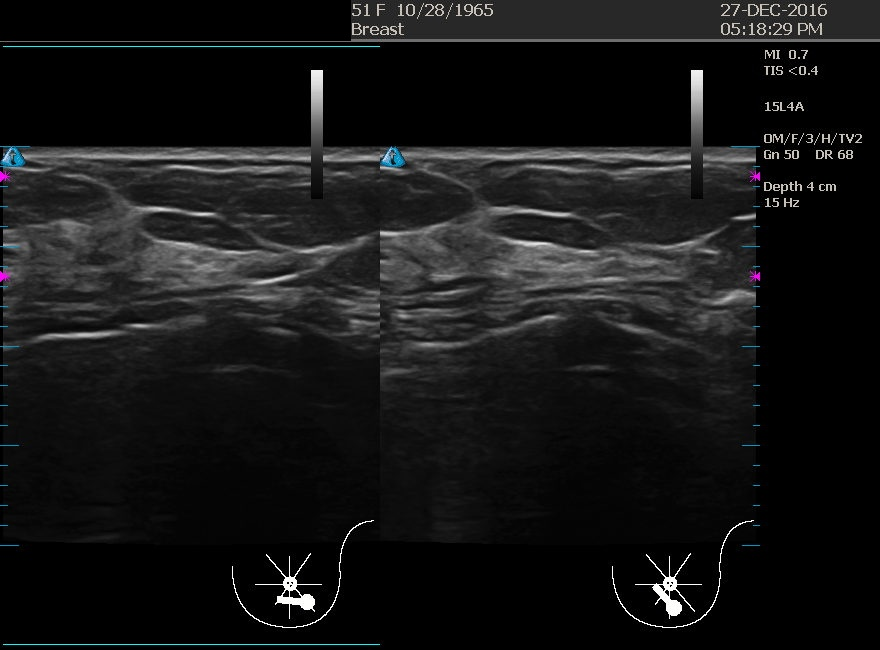BIRADS_3: (97, 162, 297, 362), (441, 154, 641, 354)
